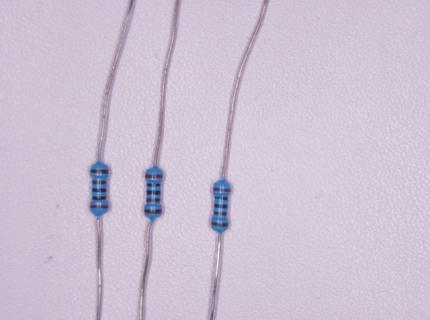Black band: (92, 188, 107, 193), (92, 196, 107, 201), (146, 190, 161, 195), (214, 196, 228, 201), (214, 204, 228, 209), (146, 183, 161, 187)
Brown band: (90, 168, 109, 174), (211, 221, 228, 227), (144, 209, 162, 214), (92, 180, 107, 186), (214, 211, 227, 216), (146, 198, 161, 202)
Red band: (145, 174, 163, 179), (213, 187, 231, 192), (90, 205, 109, 209)
